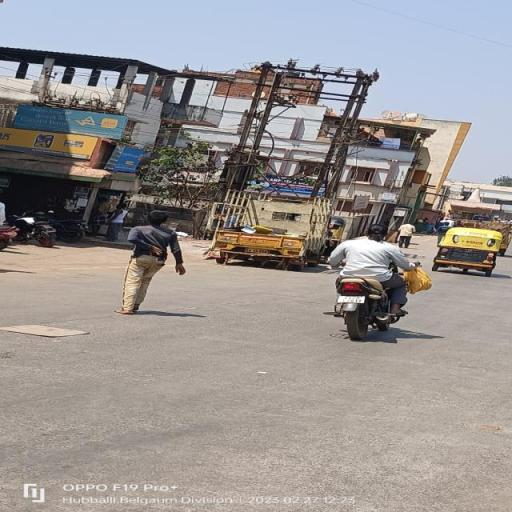bike: (324, 224, 428, 344)
numberplate: (337, 293, 363, 303)
withouthelmet: (366, 225, 388, 240)
